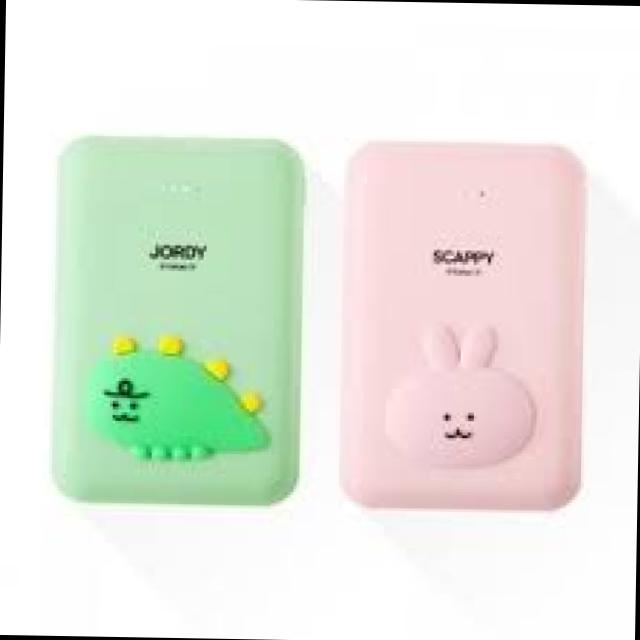power_bank: (52, 132, 312, 510), (339, 134, 592, 516)
